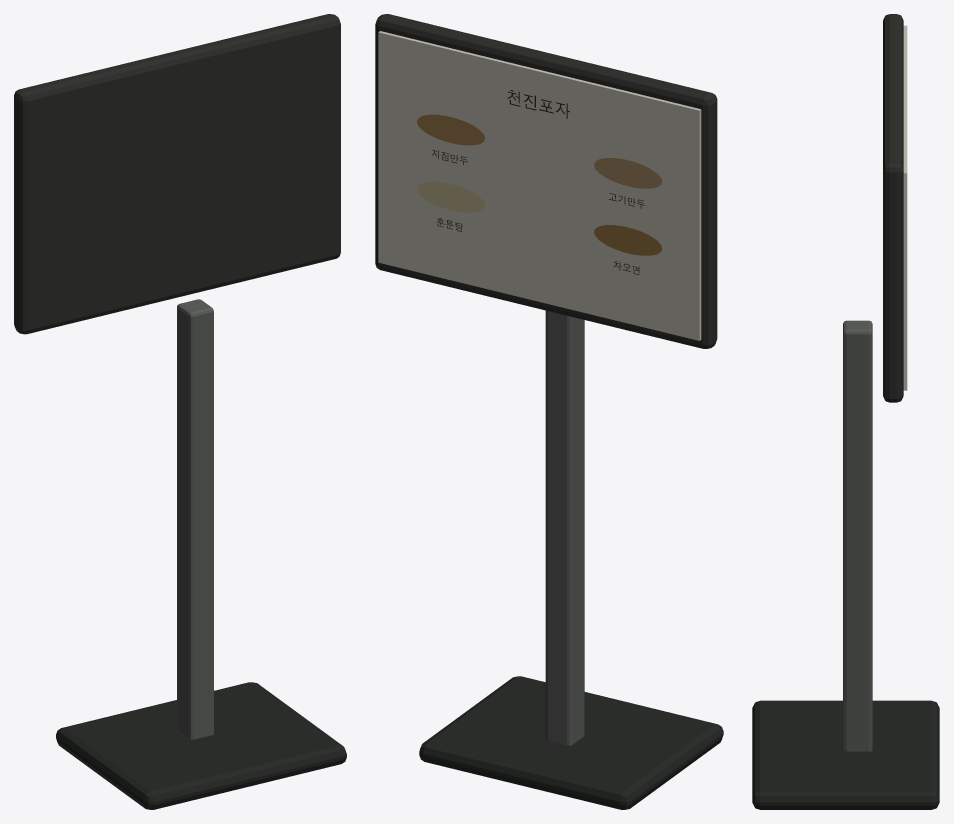
The model's file is menu.glb.
3 renders of one model, left to right at view 1: azimuth 30°, elevation 25°; view 2: azimuth 150°, elevation 25°; view 3: azimuth 270°, elevation 25°, orthographic. The views are drawn at different scales.
Visible parts, largest first — view 1: Tianjin_menu; view 2: Tianjin_menu; view 3: Tianjin_menu.
Part boxes in pixels (x1,y1,x2,y2): Tianjin_menu: (14, 14, 346, 809); Tianjin_menu: (375, 14, 723, 809); Tianjin_menu: (752, 14, 939, 809).
Size of the model in its own units: 0.6199 by 1.26 by 0.317.
